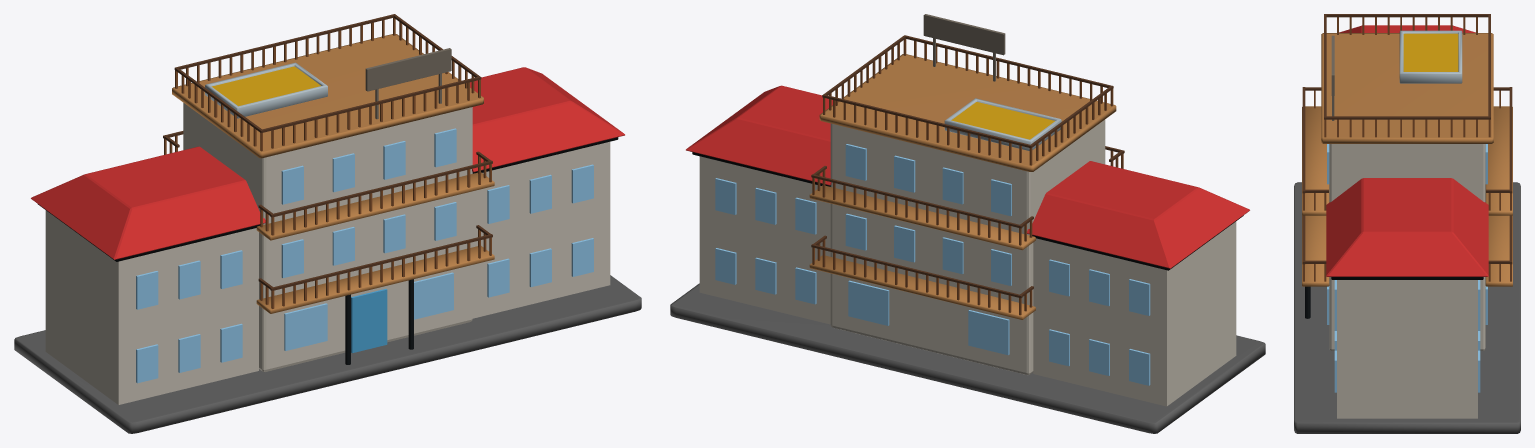
Rendered from hotel5.fbx.
The picture shows the model from 3 angles, left to right: view 1: azimuth 30°, elevation 25°; view 2: azimuth 150°, elevation 25°; view 3: azimuth 270°, elevation 25°; orthographic projection. The views are drawn at different scales.
Parts seen in each view (by area): view 1: alap, neontalp, tetoviz, tetomedence; view 2: alap, neontalp, tetoviz, tetomedence; view 3: alap, tetoviz, tetomedence, neontalp.
Boxes of the visible parts, left/top/right/bottom form: alap: left=14, top=14, right=641, bottom=433; neontalp: left=365, top=48, right=451, bottom=119; tetoviz: left=211, top=66, right=320, bottom=106; tetomedence: left=205, top=62, right=327, bottom=118; alap: left=670, top=35, right=1265, bottom=433; neontalp: left=923, top=14, right=1005, bottom=81; tetoviz: left=951, top=102, right=1054, bottom=139; tetomedence: left=944, top=98, right=1061, bottom=150; alap: left=1294, top=14, right=1520, bottom=433; tetoviz: left=1403, top=33, right=1458, bottom=71; tetomedence: left=1399, top=30, right=1462, bottom=83; neontalp: left=1331, top=35, right=1334, bottom=120.
Bounding box in the file's own units: 14.6 × 7.85 × 5.8.
1 material, 1 textured.
